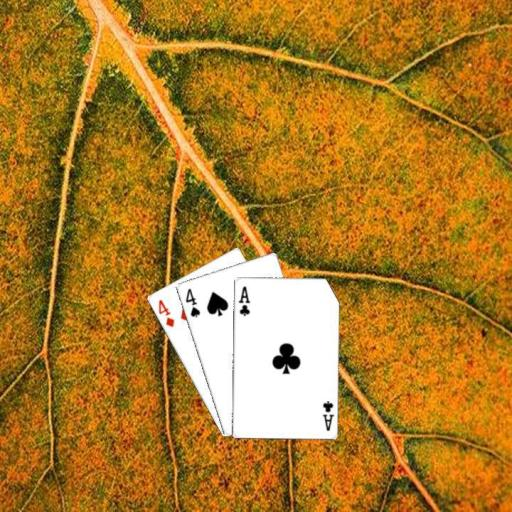4D: (155, 297, 176, 329)
4S: (182, 285, 201, 319)
AC: (235, 283, 251, 317), (319, 398, 335, 432)
